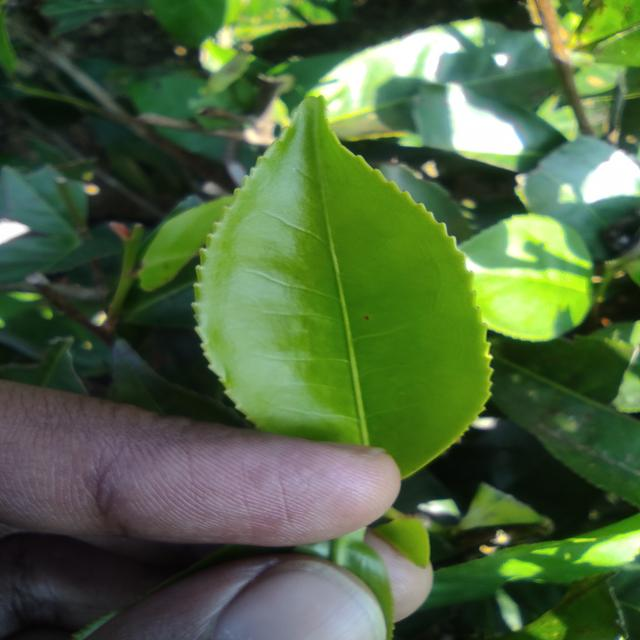Category C(4-7 days): (178, 71, 521, 530)
